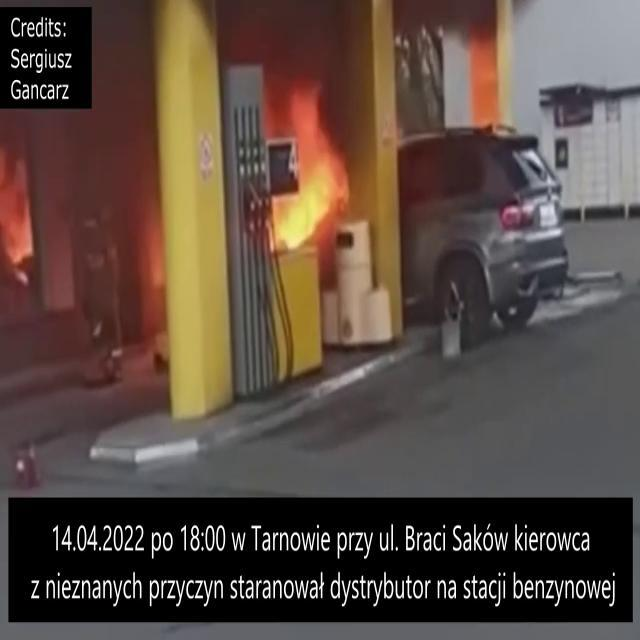Fire: (256, 74, 355, 272), (0, 112, 41, 292)
